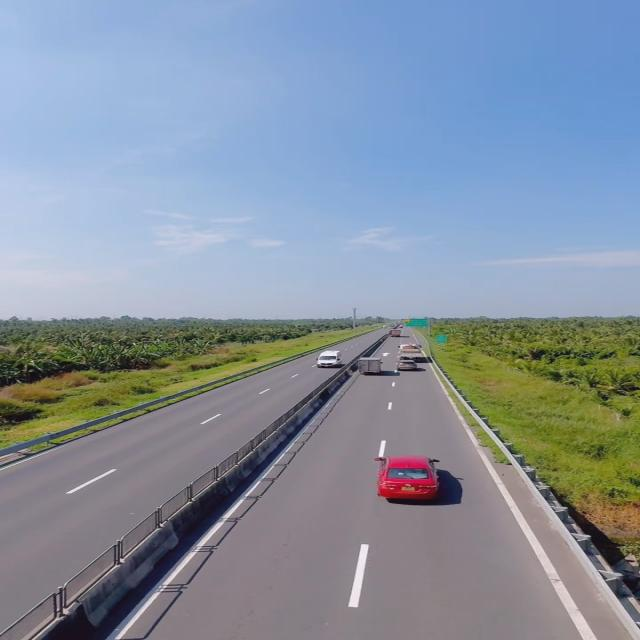car: (379, 458, 445, 505), (316, 348, 343, 371)
truck: (357, 354, 386, 376)
